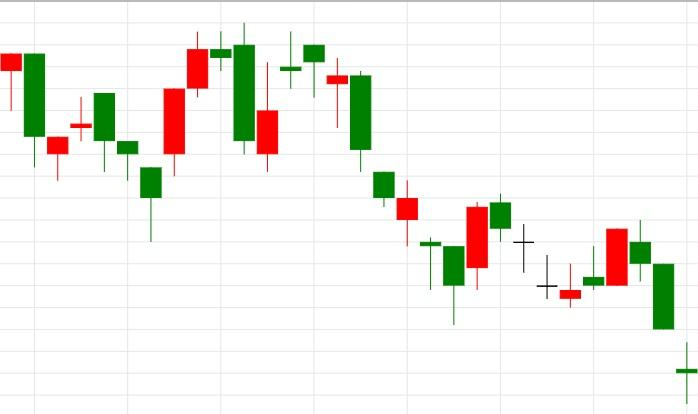hammer_rise: (70, 92, 162, 242)
